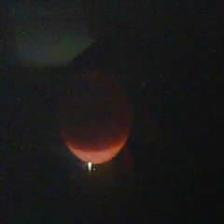fertile: (56, 63, 134, 165)
